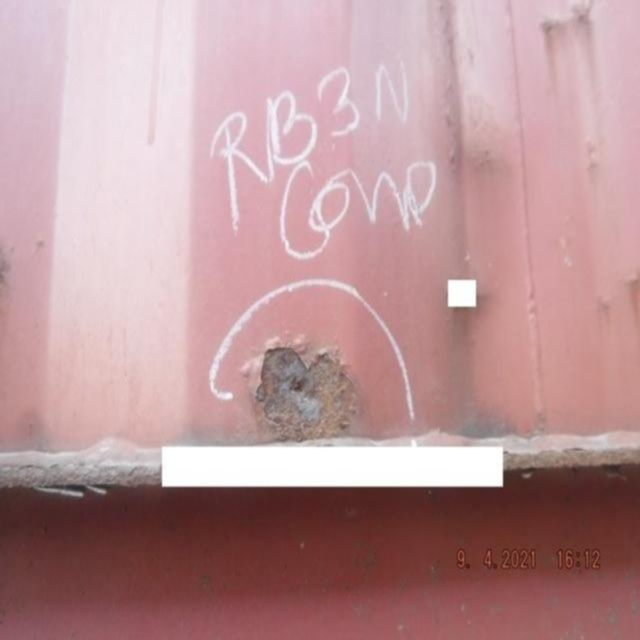Hole: (292, 380, 308, 397)
Rusty: (240, 336, 360, 449)
